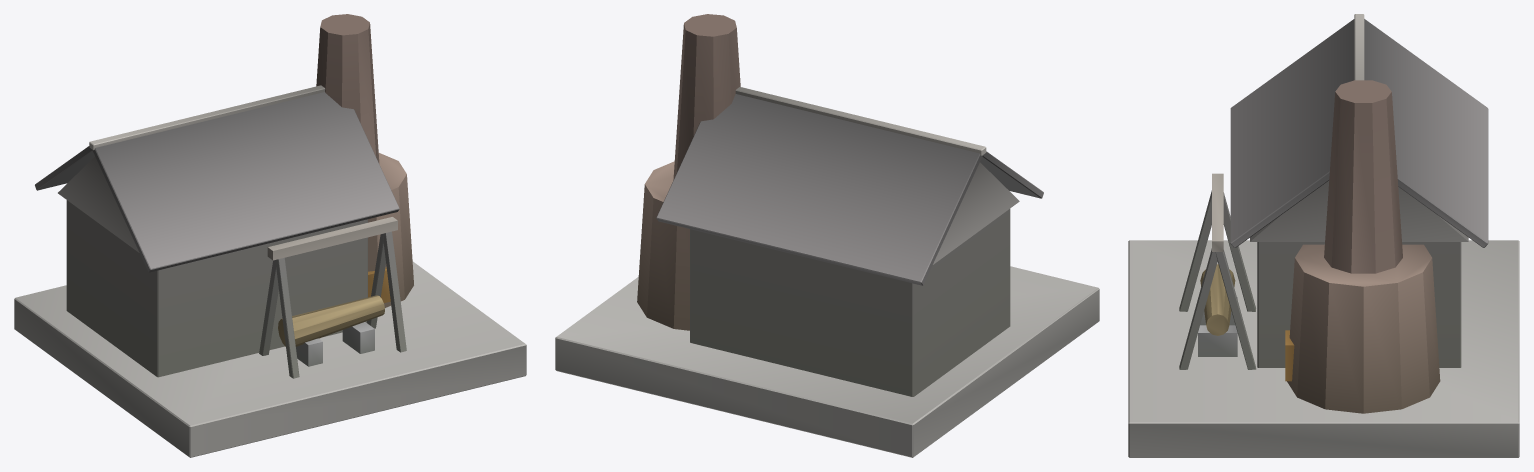
The model's file is gun_foundry_l1_lod2.glb.
3 renders of one model, left to right at view 1: azimuth 30°, elevation 25°; view 2: azimuth 150°, elevation 25°; view 3: azimuth 270°, elevation 25°, orthographic. The views are drawn at different scales.
Parts seen in each view (by area): view 1: gun_foundry_l1_lod2; view 2: gun_foundry_l1_lod2; view 3: gun_foundry_l1_lod2.
Part boxes in pixels (x1,y1,x2,y2): gun_foundry_l1_lod2: (14,14,526,457); gun_foundry_l1_lod2: (555,14,1099,457); gun_foundry_l1_lod2: (1128,14,1519,457).
Bounding box in the file's own units: 10.4 × 8.63 × 9.4.
